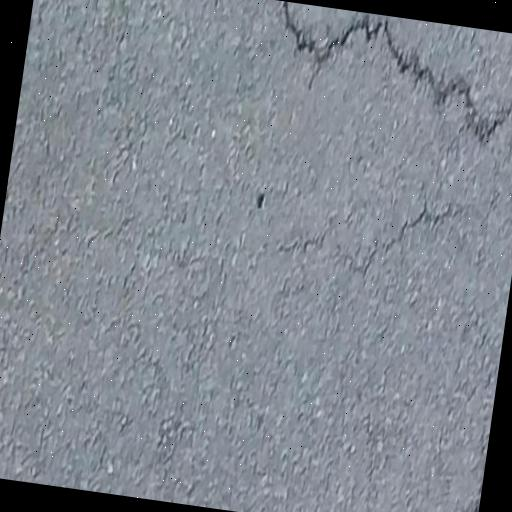spalling: (274, 1, 512, 155)
